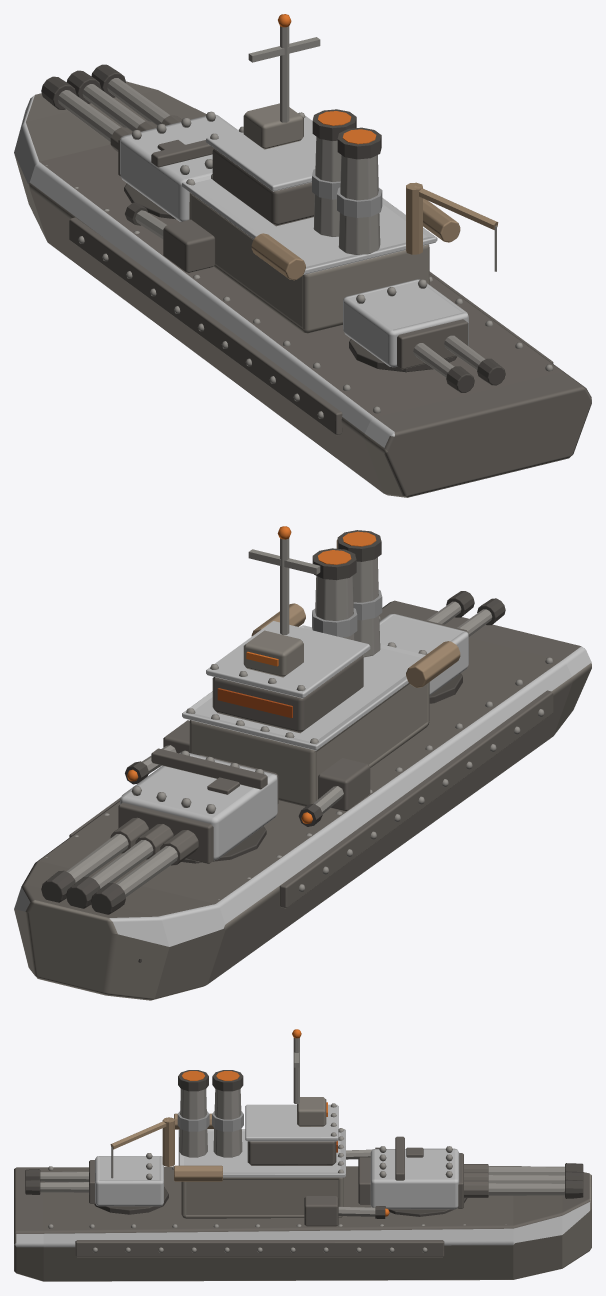
The model's file is crucible_battleship.glb.
3 renders of one model, top to bottom at view 1: azimuth 30°, elevation 25°; view 2: azimuth 150°, elevation 25°; view 3: azimuth 270°, elevation 25°, orthographic. The views are drawn at different scales.
Visible parts, largest first — view 1: Body, Turret; view 2: Body, Turret; view 3: Body, Turret.
Boxes of the visible parts, x1,y1,x2,y2 form: Body: [14, 14, 591, 497]; Turret: [41, 64, 237, 221]; Body: [14, 526, 591, 1000]; Turret: [41, 748, 278, 914]; Body: [14, 1029, 591, 1281]; Turret: [358, 1136, 583, 1216].
Bounding box in the file's own units: 0.732 × 1.01 × 2.35.
